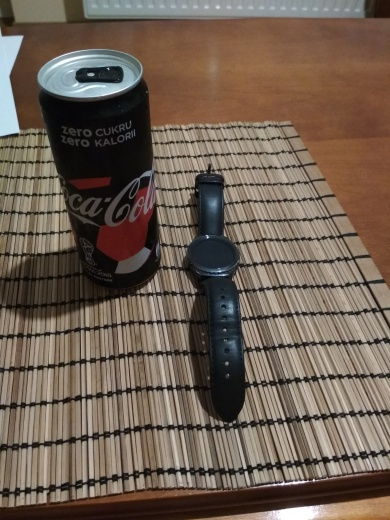colazero: (28, 43, 172, 288)
